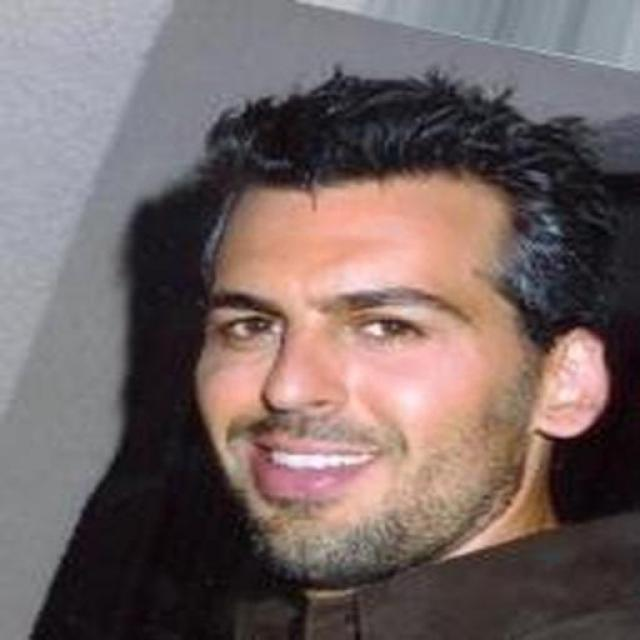bareface: (203, 114, 610, 580)
